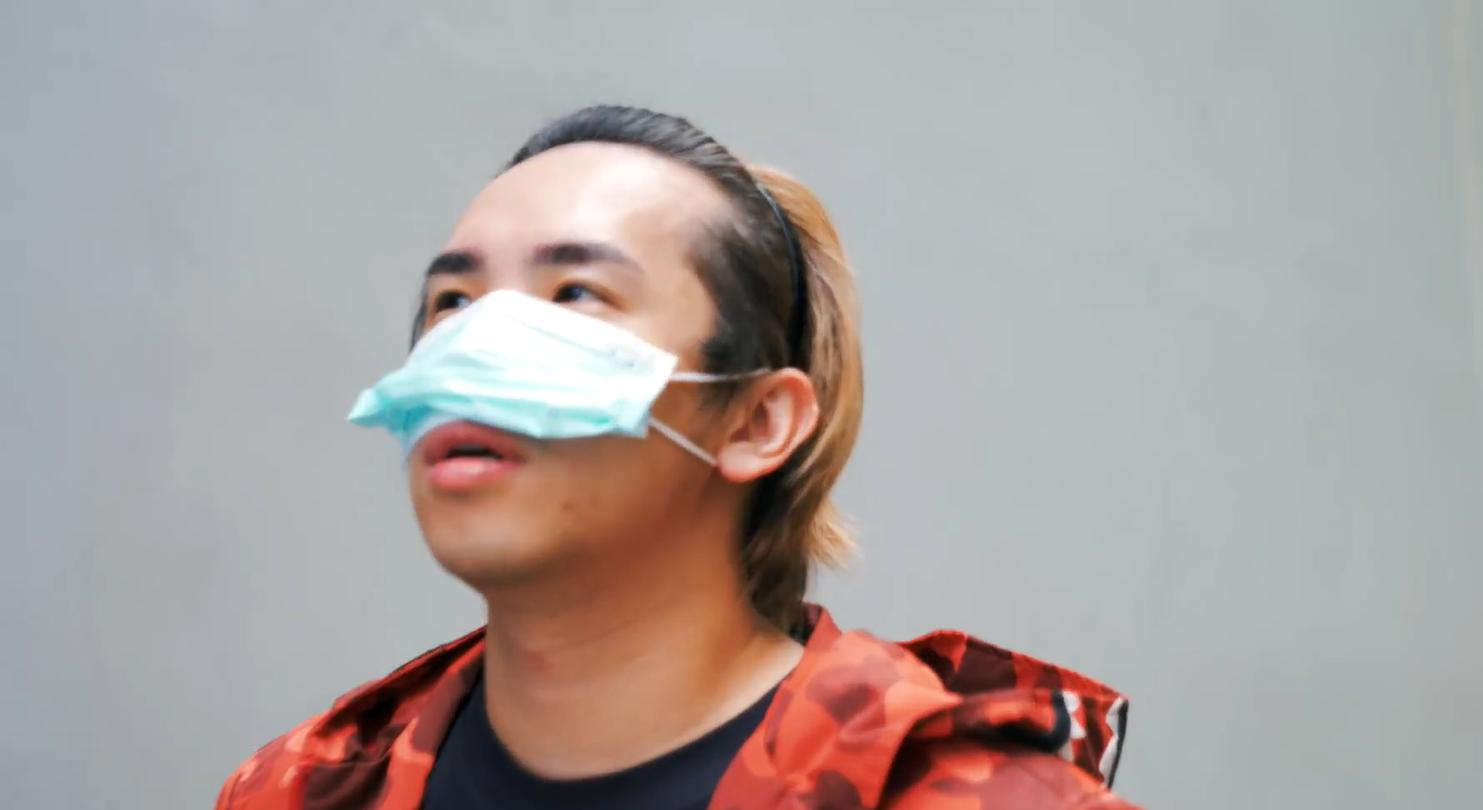with_incorrect_mask: (423, 240, 651, 550)
